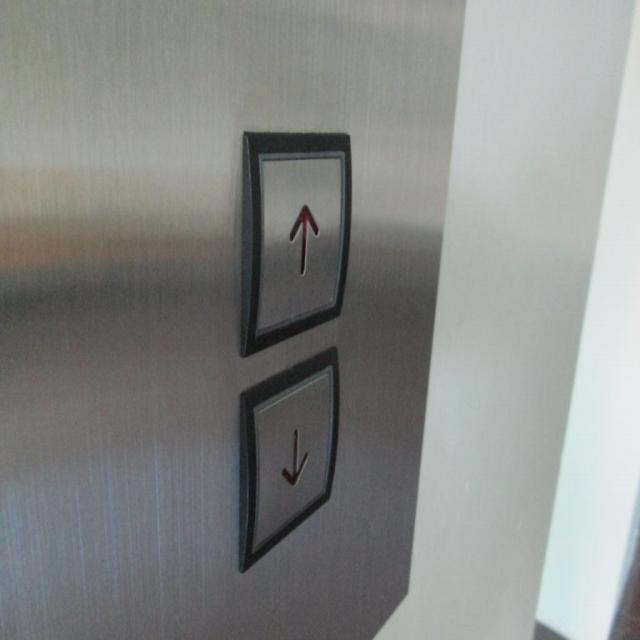down: (236, 342, 341, 578)
up: (235, 125, 354, 361)
